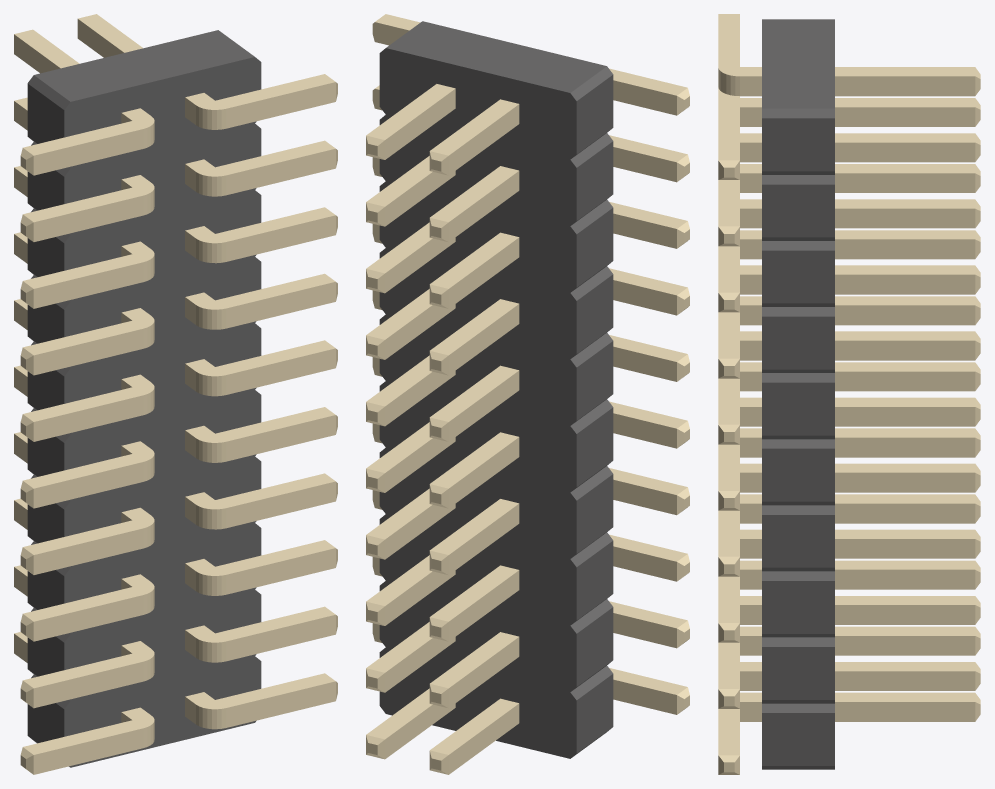
The model's file is PinHeader_2x10_P1.00mm_Vertical_SMD.glb.
3 renders of one model, left to right at view 1: azimuth 30°, elevation 25°; view 2: azimuth 150°, elevation 25°; view 3: azimuth 270°, elevation 25°, orthographic.
Parts seen in each view (by area): view 1: Shape_IndexedFaceSet.003, Shape_IndexedFaceSet.001, Shape_IndexedFaceSet.242, Shape_IndexedFaceSet.307, Shape_IndexedFaceSet.257, Shape_IndexedFaceSet.247, Shape_IndexedFaceSet.302, Shape_IndexedFaceSet.287, Shape_IndexedFaceSet.317, Shape_IndexedFaceSet.227, Shape_IndexedFaceSet.267, Shape_IndexedFaceSet.277 (+54 smaller); view 2: Shape_IndexedFaceSet.004, Shape_IndexedFaceSet.001, Shape_IndexedFaceSet.013, Shape_IndexedFaceSet.019, Shape_IndexedFaceSet.037, Shape_IndexedFaceSet.061, Shape_IndexedFaceSet.007, Shape_IndexedFaceSet.025, Shape_IndexedFaceSet.043, Shape_IndexedFaceSet.049, Shape_IndexedFaceSet.055, Shape_IndexedFaceSet.031 (+60 smaller); view 3: Shape_IndexedFaceSet.001, Shape_IndexedFaceSet.002, Shape_IndexedFaceSet.010, Shape_IndexedFaceSet.016, Shape_IndexedFaceSet.022, Shape_IndexedFaceSet.028, Shape_IndexedFaceSet.034, Shape_IndexedFaceSet.040, Shape_IndexedFaceSet.046, Shape_IndexedFaceSet.052, Shape_IndexedFaceSet.058, Shape_IndexedFaceSet.147 (+72 smaller).
Boxes of the visible parts, bbox=[...] form: Shape_IndexedFaceSet.003: bbox=[64, 57, 261, 767]; Shape_IndexedFaceSet.001: bbox=[34, 30, 254, 101]; Shape_IndexedFaceSet.242: bbox=[33, 329, 143, 375]; Shape_IndexedFaceSet.307: bbox=[33, 528, 143, 574]; Shape_IndexedFaceSet.257: bbox=[33, 395, 143, 441]; Shape_IndexedFaceSet.247: bbox=[33, 196, 143, 241]; Shape_IndexedFaceSet.302: bbox=[33, 595, 143, 641]; Shape_IndexedFaceSet.287: bbox=[33, 662, 143, 708]; Shape_IndexedFaceSet.317: bbox=[33, 129, 143, 175]; Shape_IndexedFaceSet.227: bbox=[226, 282, 335, 328]; Shape_IndexedFaceSet.267: bbox=[33, 462, 143, 508]; Shape_IndexedFaceSet.277: bbox=[33, 728, 143, 774]; Shape_IndexedFaceSet.004: bbox=[379, 48, 576, 758]; Shape_IndexedFaceSet.001: bbox=[386, 21, 606, 92]; Shape_IndexedFaceSet.013: bbox=[576, 141, 613, 220]; Shape_IndexedFaceSet.019: bbox=[576, 208, 613, 287]; Shape_IndexedFaceSet.037: bbox=[576, 407, 613, 486]; Shape_IndexedFaceSet.061: bbox=[576, 674, 613, 753]; Shape_IndexedFaceSet.007: bbox=[576, 75, 613, 154]; Shape_IndexedFaceSet.025: bbox=[576, 274, 613, 353]; Shape_IndexedFaceSet.043: bbox=[576, 474, 613, 553]; Shape_IndexedFaceSet.049: bbox=[576, 541, 613, 620]; Shape_IndexedFaceSet.055: bbox=[576, 607, 613, 686]; Shape_IndexedFaceSet.031: bbox=[576, 341, 613, 420]; Shape_IndexedFaceSet.001: bbox=[762, 19, 834, 108]; Shape_IndexedFaceSet.002: bbox=[762, 118, 834, 171]; Shape_IndexedFaceSet.010: bbox=[762, 184, 834, 237]; Shape_IndexedFaceSet.016: bbox=[762, 250, 834, 303]; Shape_IndexedFaceSet.022: bbox=[762, 316, 834, 369]; Shape_IndexedFaceSet.028: bbox=[762, 382, 834, 435]; Shape_IndexedFaceSet.034: bbox=[762, 448, 834, 501]; Shape_IndexedFaceSet.040: bbox=[762, 515, 834, 567]; Shape_IndexedFaceSet.046: bbox=[762, 581, 834, 633]; Shape_IndexedFaceSet.052: bbox=[762, 647, 834, 699]; Shape_IndexedFaceSet.058: bbox=[762, 713, 834, 765]; Shape_IndexedFaceSet.147: bbox=[835, 305, 975, 325].
Size of the model in its own units: 1.93 by 3.94 by 1.42.
